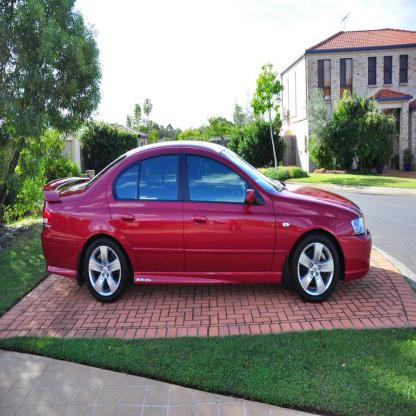Car: (41, 140, 372, 302)
